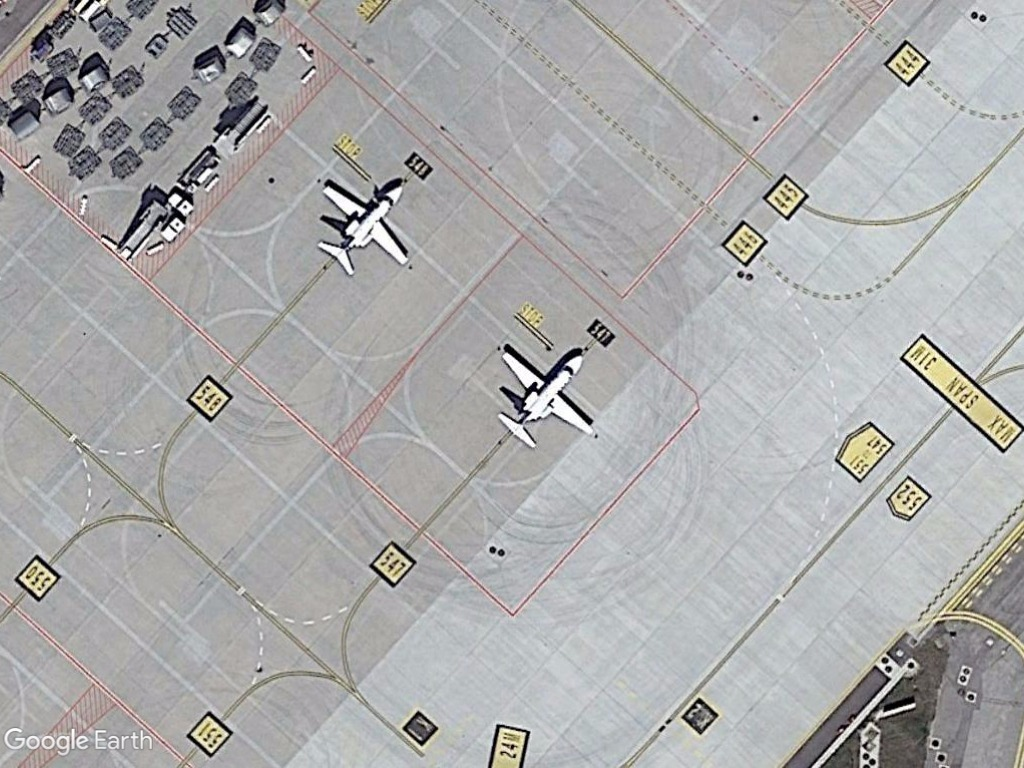chartered: (496, 343, 598, 454), (312, 179, 419, 279)
stairtruck: (112, 199, 173, 265), (214, 98, 276, 162)
